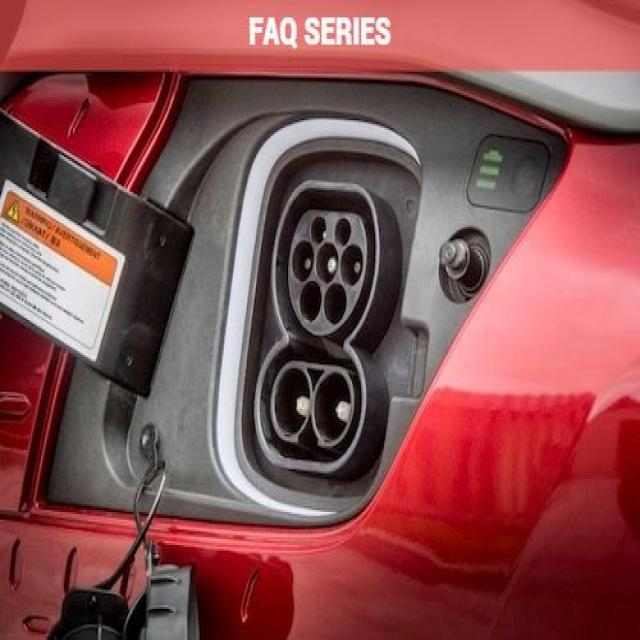inlet: (288, 210, 368, 337)
inlet-above-left: (312, 216, 326, 244)
inlet-above-right: (335, 218, 352, 245)
inlet-below-left: (301, 282, 321, 322)
inlet-below-right: (324, 284, 347, 324)
inlet-circle: (316, 243, 339, 282)
inlet-circle-left: (293, 241, 314, 281)
inlet-circle-right: (340, 244, 363, 285)
inlet-minus: (314, 372, 351, 441)
inlet-plus: (274, 367, 310, 437)
